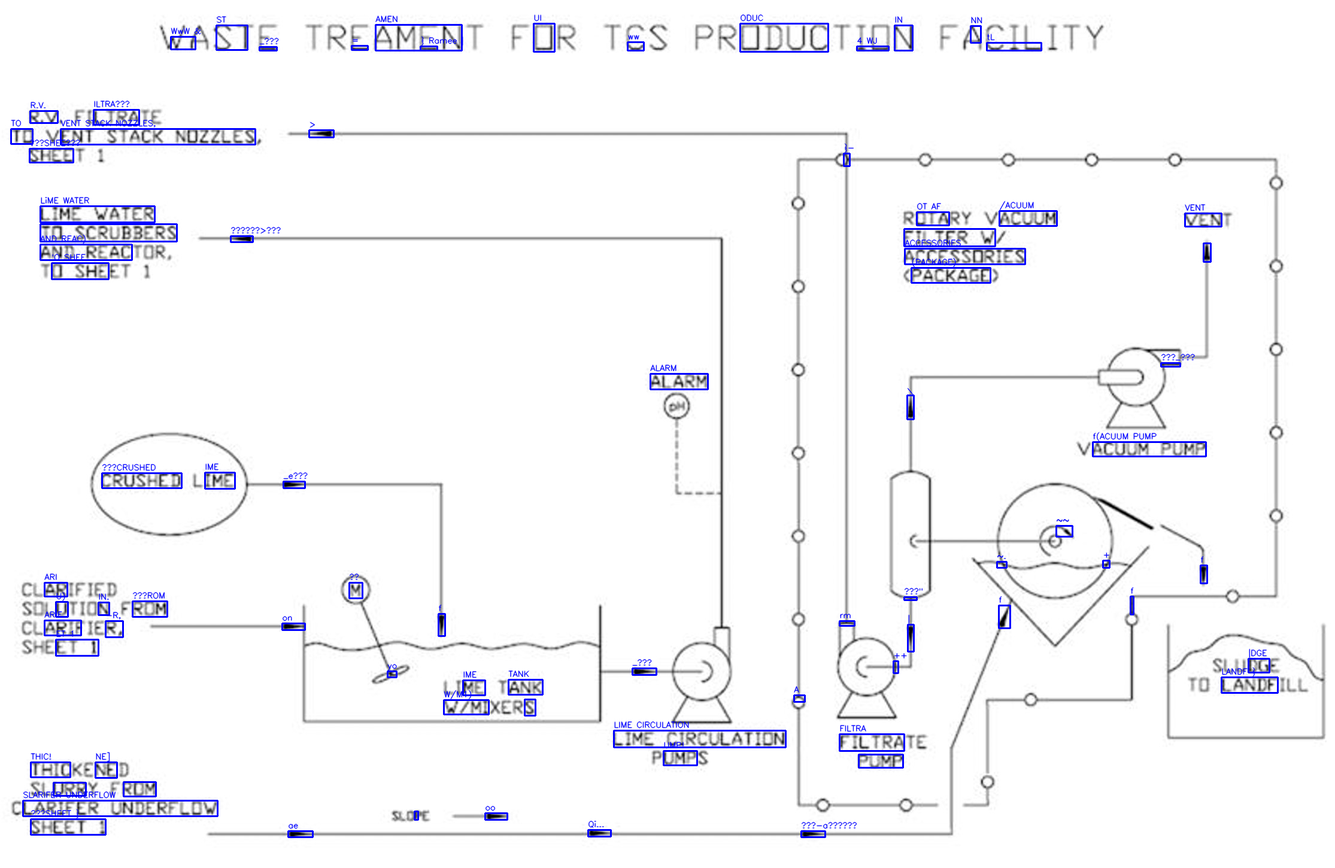Bomba: (1093, 335, 1187, 431), (832, 618, 902, 725), (667, 623, 735, 726)
Misturador: (333, 570, 418, 691)
